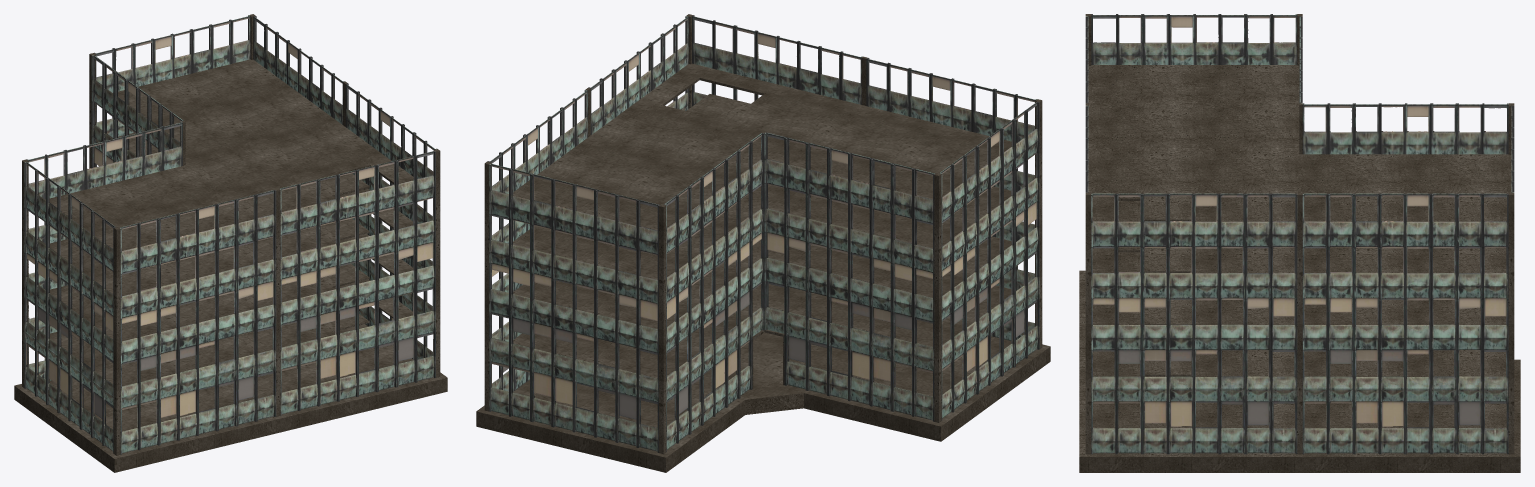
The model's file is BagSS09base_500.fbx.
The picture shows the model from 3 angles, left to right: view 1: azimuth 30°, elevation 25°; view 2: azimuth 150°, elevation 25°; view 3: azimuth 270°, elevation 25°; orthographic projection. The views are drawn at different scales.
Parts seen in each view (by area): view 1: baseMain500, baseCrete500; view 2: baseMain500, baseCrete500; view 3: baseCrete500, baseMain500.
Part boxes in pixels (x1,y1,x2,y2): baseMain500: [24, 15, 437, 454]; baseCrete500: [14, 14, 447, 472]; baseMain500: [487, 15, 1039, 452]; baseCrete500: [476, 14, 1050, 472]; baseCrete500: [1079, 14, 1520, 472]; baseMain500: [1085, 14, 1514, 454].
Size of the model in its own units: 42.12 by 28.99 by 42.12.
